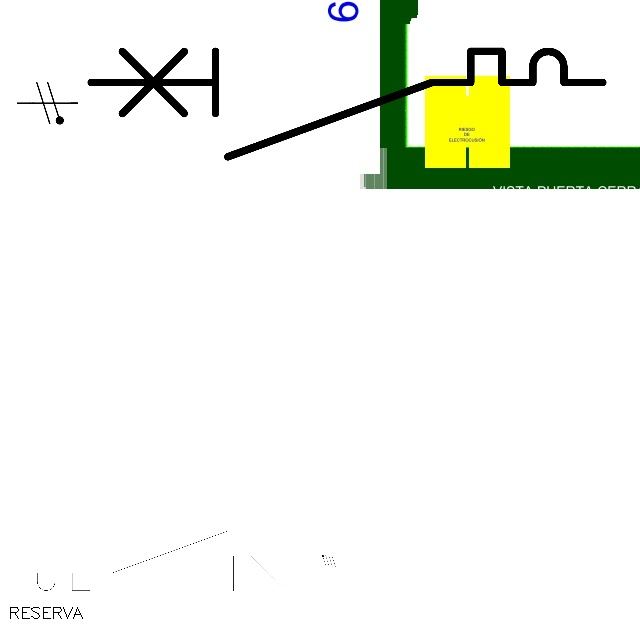interruptor_termomagnetico: (77, 38, 615, 170), (8, 524, 311, 598)
